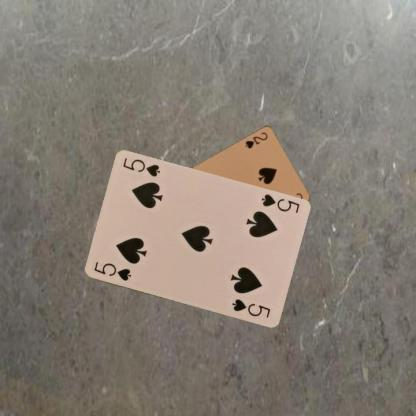2s: (243, 129, 269, 150)
5s: (258, 191, 300, 215), (91, 260, 132, 282)
